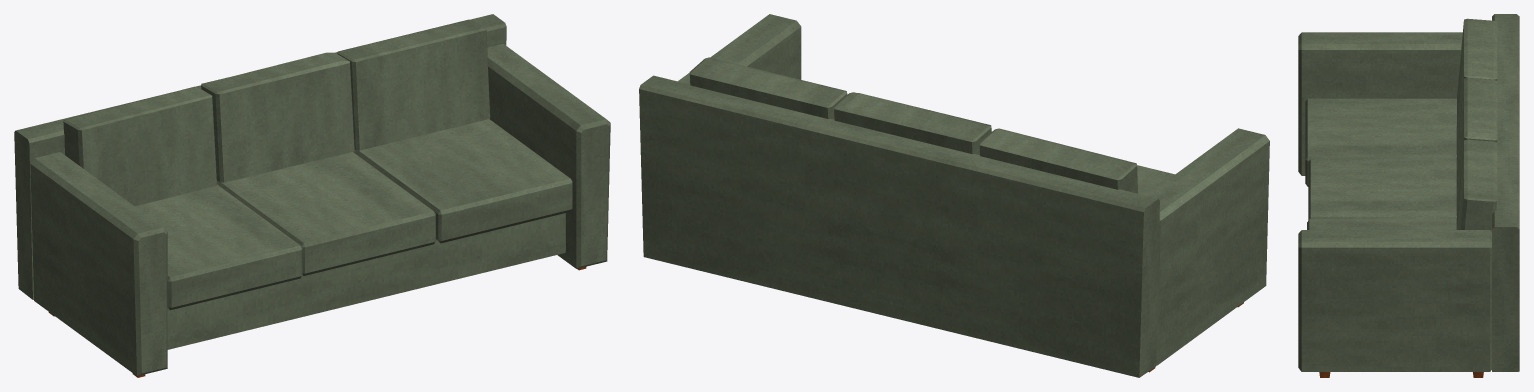
File: couch_large_green.glb
The picture shows the model from 3 angles, left to right: view 1: azimuth 30°, elevation 25°; view 2: azimuth 150°, elevation 25°; view 3: azimuth 270°, elevation 25°; orthographic projection. The views are drawn at different scales.
Visible parts, largest first — view 1: couch_large_green; view 2: couch_large_green; view 3: couch_large_green.
Part boxes in pixels (x1,y1,x2,y2): couch_large_green: (14, 14, 610, 377); couch_large_green: (639, 14, 1269, 377); couch_large_green: (1298, 14, 1519, 377).
Size of the model in its own units: 3.16 by 1.19 by 1.39.
1 material, 1 textured.
